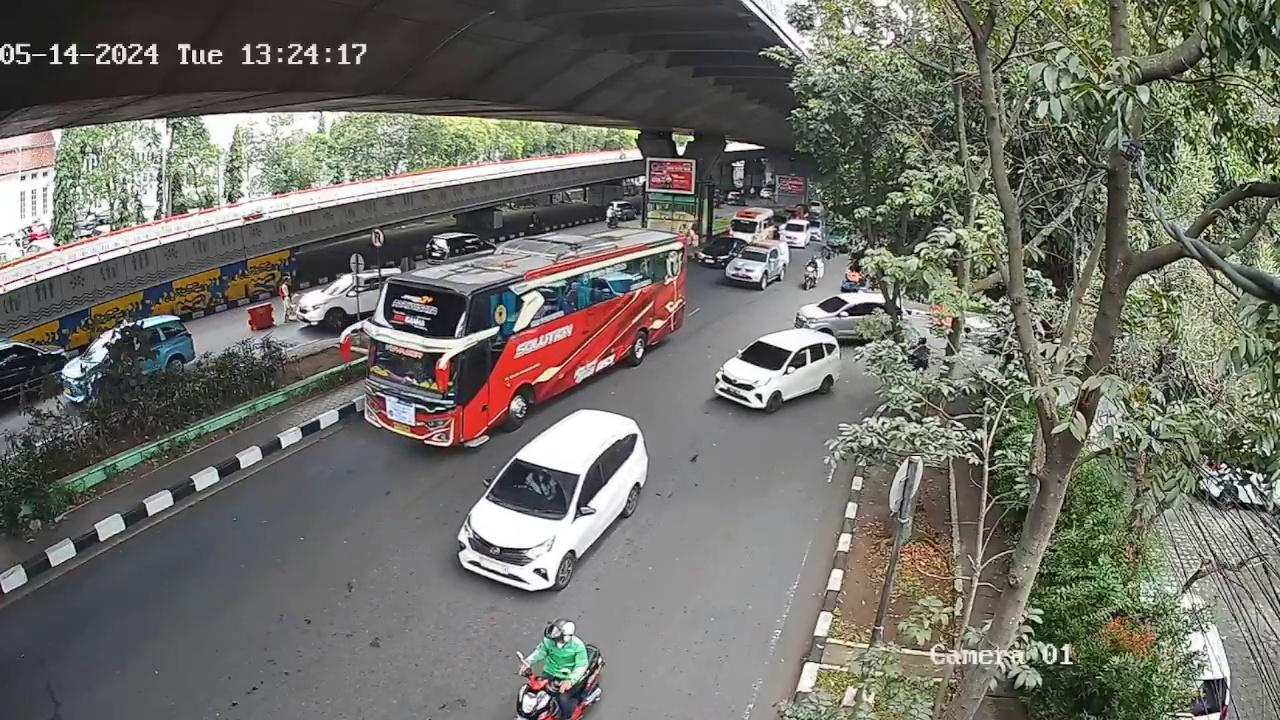pakai: (527, 472, 554, 498)
windshield: (497, 457, 575, 511), (736, 336, 793, 372)
